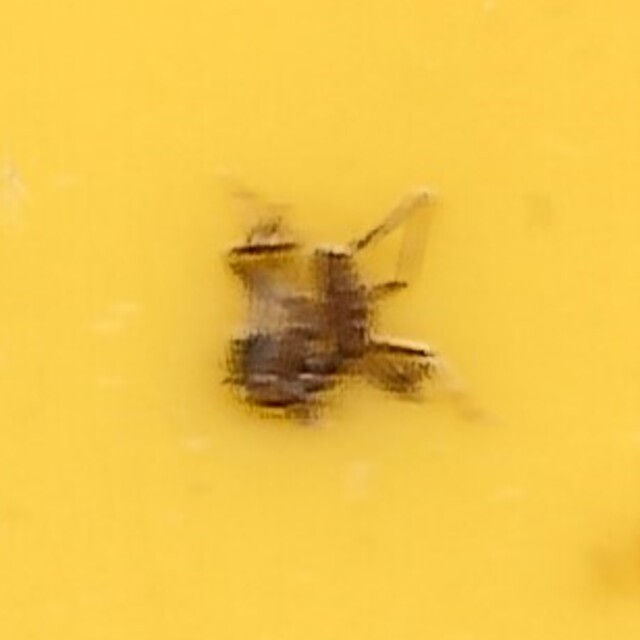Nematocera: (208, 215, 432, 425)
